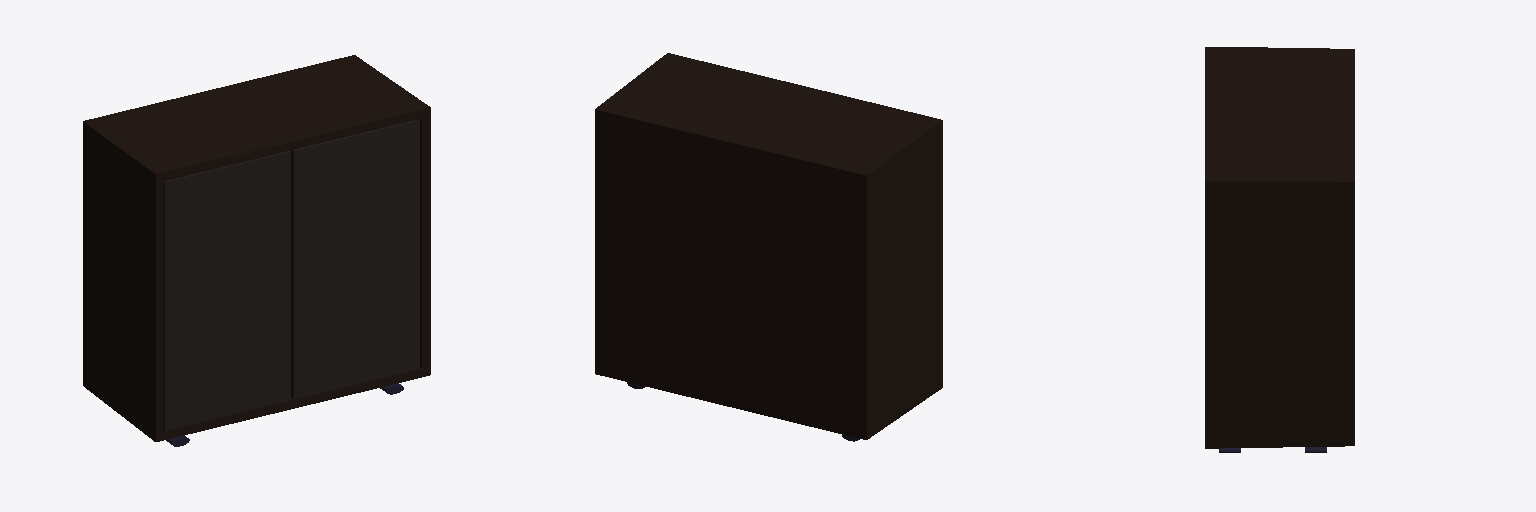
The model's file is closedWardrobe.obj.
The picture shows the model from 3 angles: view 1: azimuth 30°, elevation 25°; view 2: azimuth 150°, elevation 25°; view 3: azimuth 270°, elevation 25°; orthographic projection.
Parts seen in each view (by area): view 1: Box001, Box003, Box002; view 2: Box001; view 3: Box001.
Boxes of the visible parts, x1=… form: Box001: x1=83, y1=55, x2=430, y2=441; Box003: x1=291, y1=119, x2=419, y2=398; Box002: x1=164, y1=151, x2=290, y2=430; Box001: x1=595, y1=53, x2=942, y2=439; Box001: x1=1205, y1=47, x2=1354, y2=448.
Bounding box in the file's own units: 59.84 × 59.18 × 28.1.